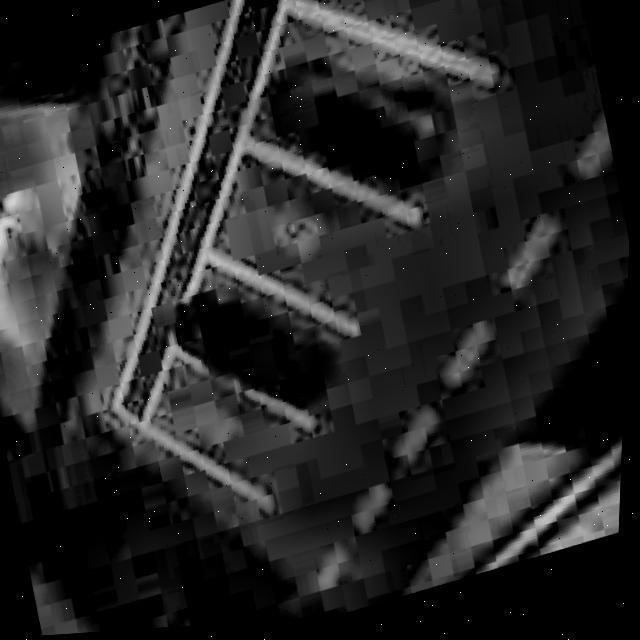car: (227, 14, 478, 240), (148, 253, 352, 448)
